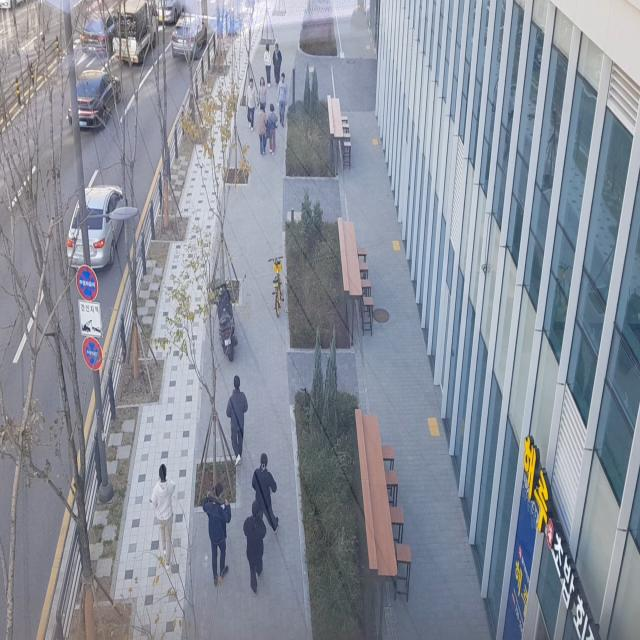Car: (61, 166, 138, 278), (64, 64, 127, 138), (69, 0, 125, 61), (172, 5, 206, 56), (153, 0, 185, 28)
Truck: (110, 0, 168, 68)
